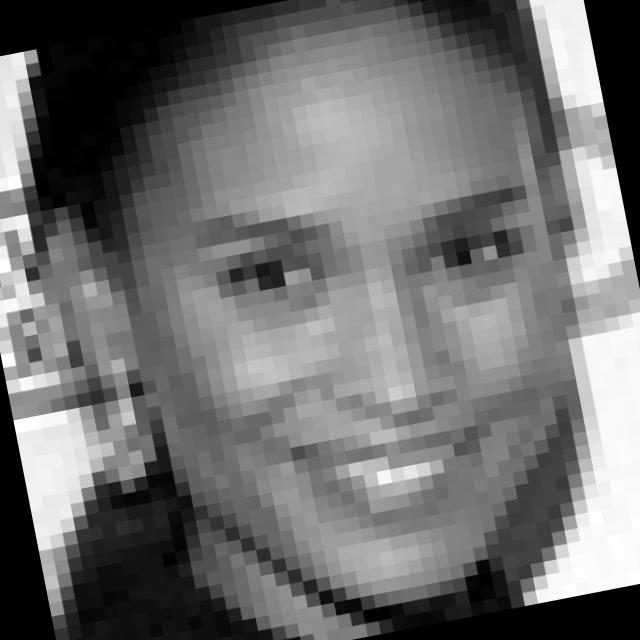happy: (167, 152, 594, 565)
